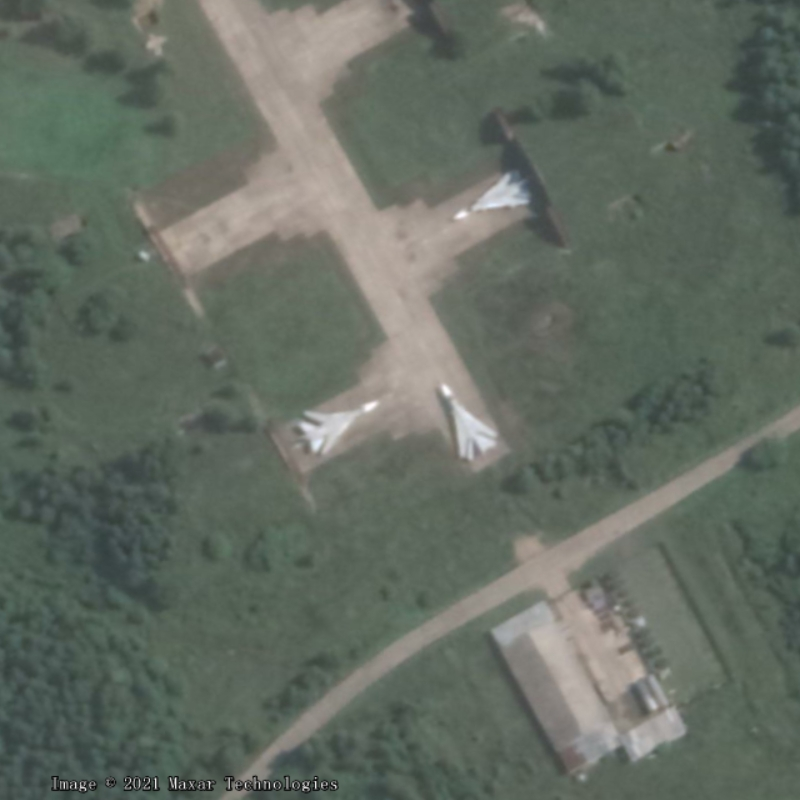A20: (294, 398, 380, 457), (439, 382, 499, 462), (450, 168, 534, 221)
